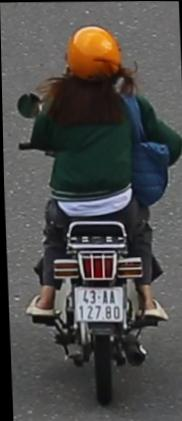LP: (71, 283, 124, 325)
helmet: (59, 21, 127, 94)
